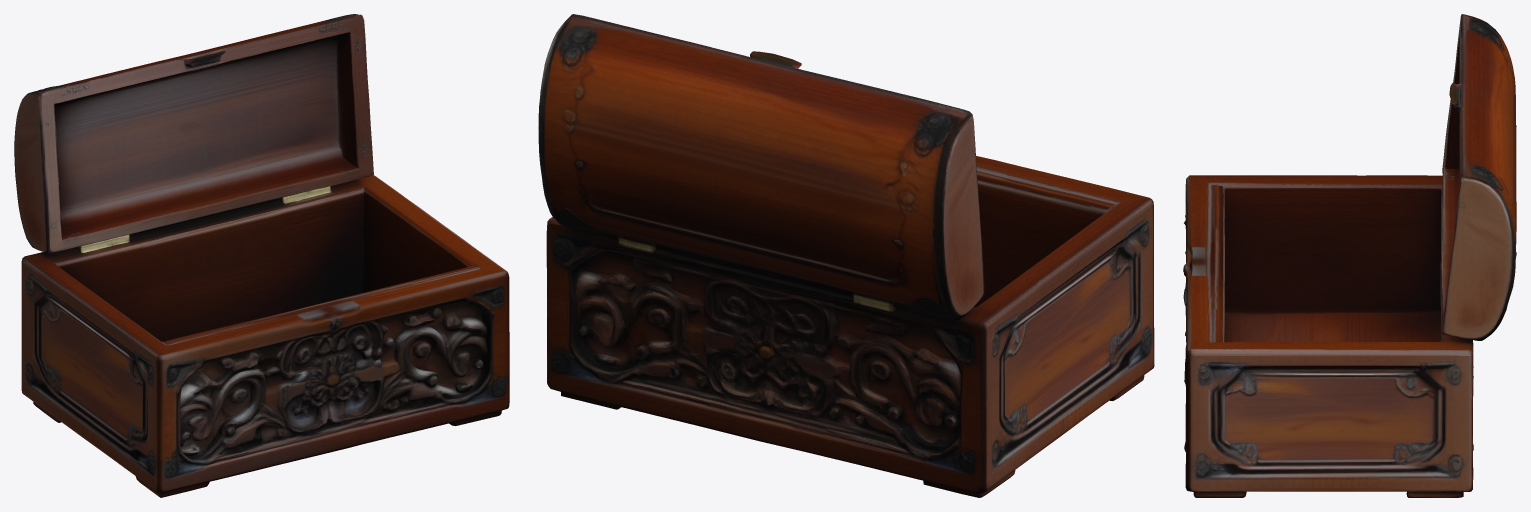
The model's file is wooden-secret-compartment-box-3d.jpeg.glb.
3 renders of one model, left to right at view 1: azimuth 30°, elevation 25°; view 2: azimuth 150°, elevation 25°; view 3: azimuth 270°, elevation 25°, orthographic. The views are drawn at different scales.
Visible parts, largest first — view 1: world; view 2: world; view 3: world.
Boxes of the visible parts, box(x1,y1,x2,y2) form: world: box(14, 14, 509, 497); world: box(538, 14, 1154, 497); world: box(1183, 14, 1516, 497).
Size of the model in its own units: 0.9852 by 0.825 by 0.7779.
Materials: 1 (1 with a texture image).
